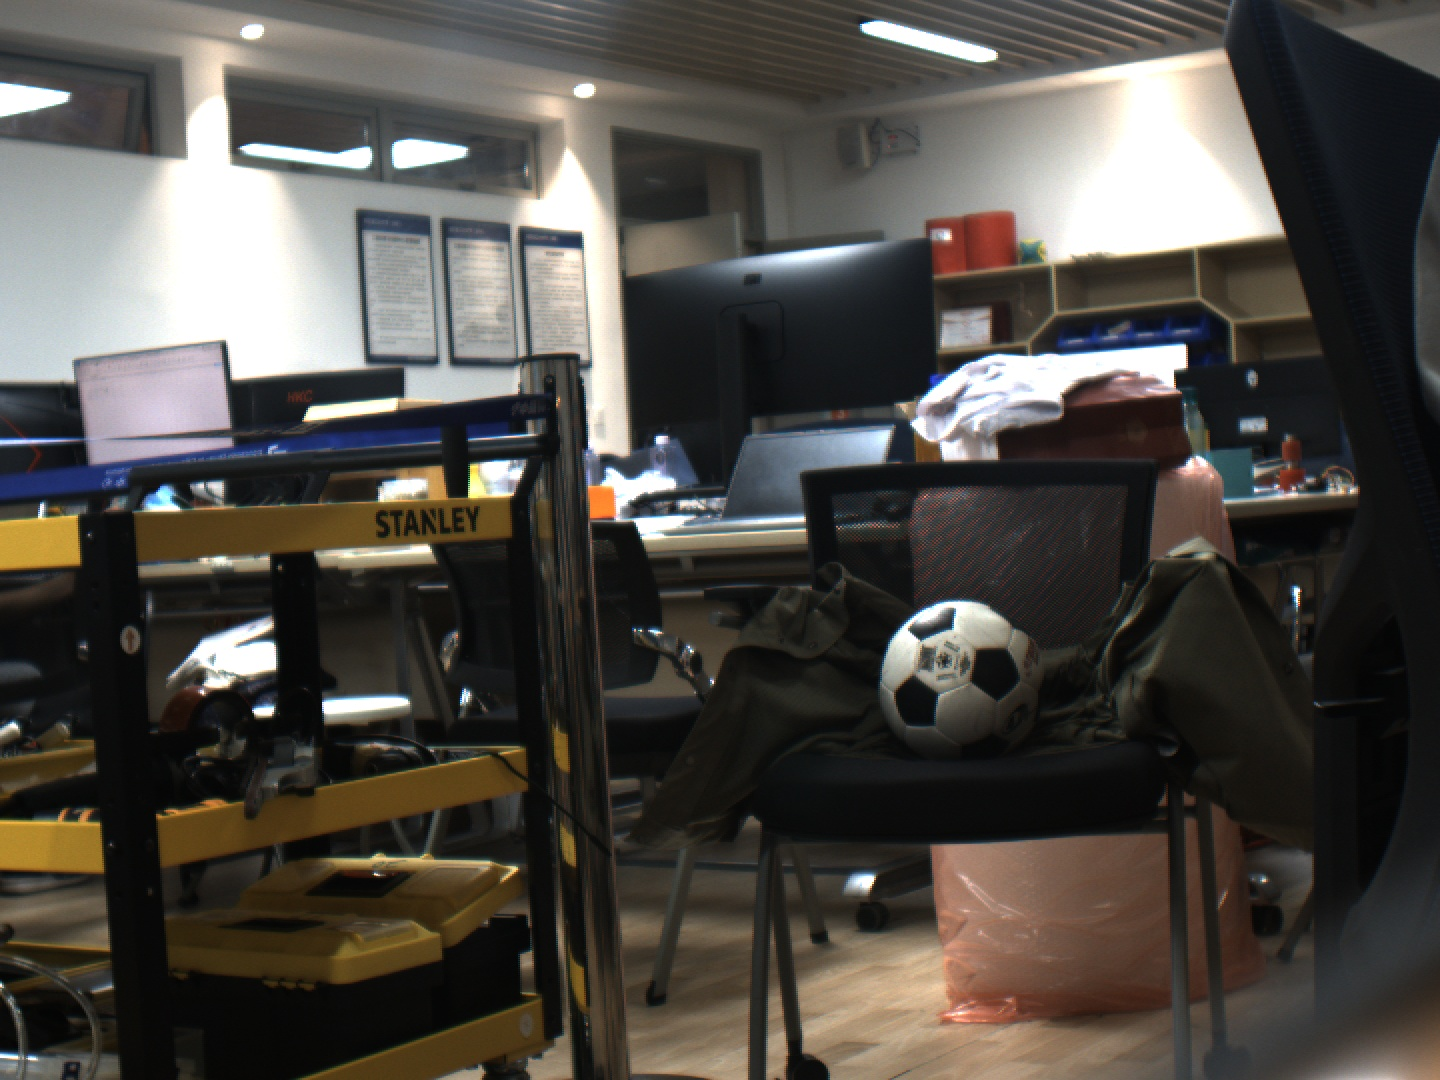ball: (858, 589, 1064, 759)
